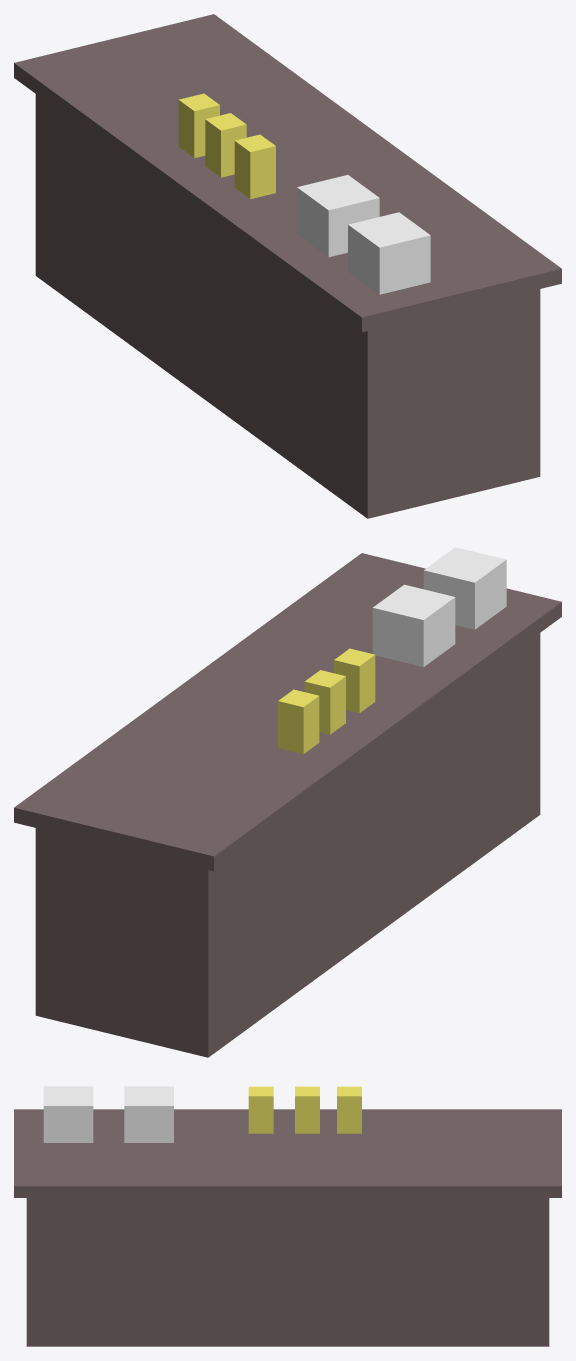
The model's file is 19 Workbench.FBX.
The picture shows the model from 3 angles, top to bottom: view 1: azimuth 30°, elevation 25°; view 2: azimuth 150°, elevation 25°; view 3: azimuth 270°, elevation 25°; orthographic projection. The views are drawn at different scales.
Visible parts, largest first — view 1: Box066, Box068, Box069, Box070, Box071, Box072; view 2: Box066, Box069, Box068, Box072, Box070, Box071; view 3: Box066, Box068, Box069, Box070, Box071, Box072.
Boxes of the visible parts, <box> form: Box066: <box>14,14,561,518</box>; Box068: <box>348,212,430,294</box>; Box069: <box>297,175,379,257</box>; Box070: <box>234,134,275,199</box>; Box071: <box>205,113,246,177</box>; Box072: <box>178,93,219,158</box>; Box066: <box>14,553,561,1057</box>; Box069: <box>372,584,455,666</box>; Box068: <box>423,547,506,629</box>; Box072: <box>278,689,319,754</box>; Box070: <box>334,648,375,713</box>; Box071: <box>304,670,345,734</box>; Box066: <box>14,1109,561,1346</box>; Box068: <box>43,1086,93,1142</box>; Box069: <box>124,1086,173,1142</box>; Box070: <box>248,1086,273,1133</box>; Box071: <box>295,1086,319,1133</box>; Box072: <box>337,1086,361,1133</box>.
Size of the model in its own units: 696 by 856 by 2096.
